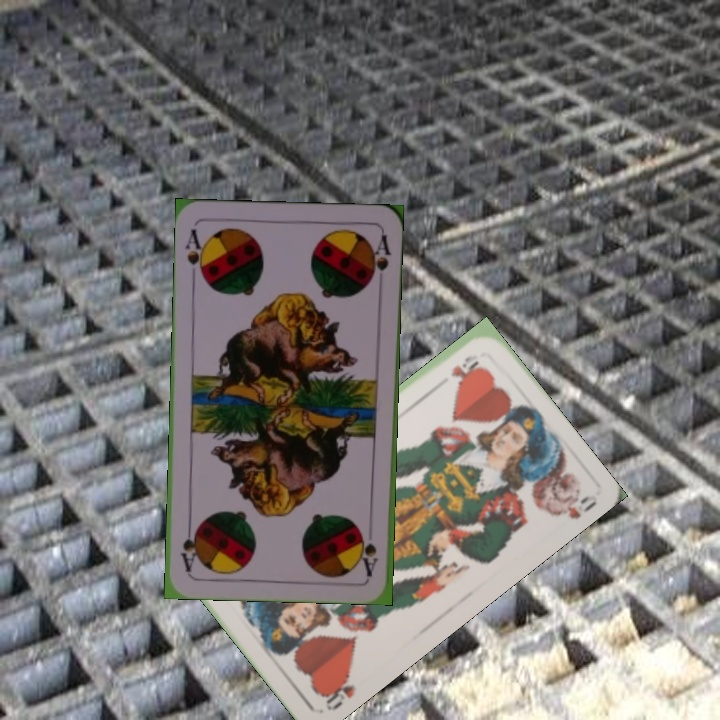HO: (318, 671, 358, 714), (446, 350, 482, 380)
SA: (181, 225, 208, 283), (358, 529, 380, 578)
